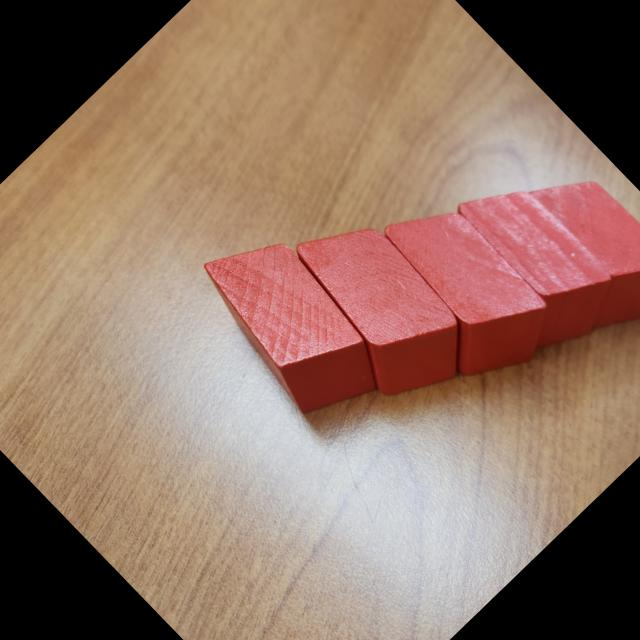red: (267, 196, 491, 422), (180, 212, 404, 438), (352, 181, 570, 402), (427, 162, 632, 370), (493, 148, 640, 352)
